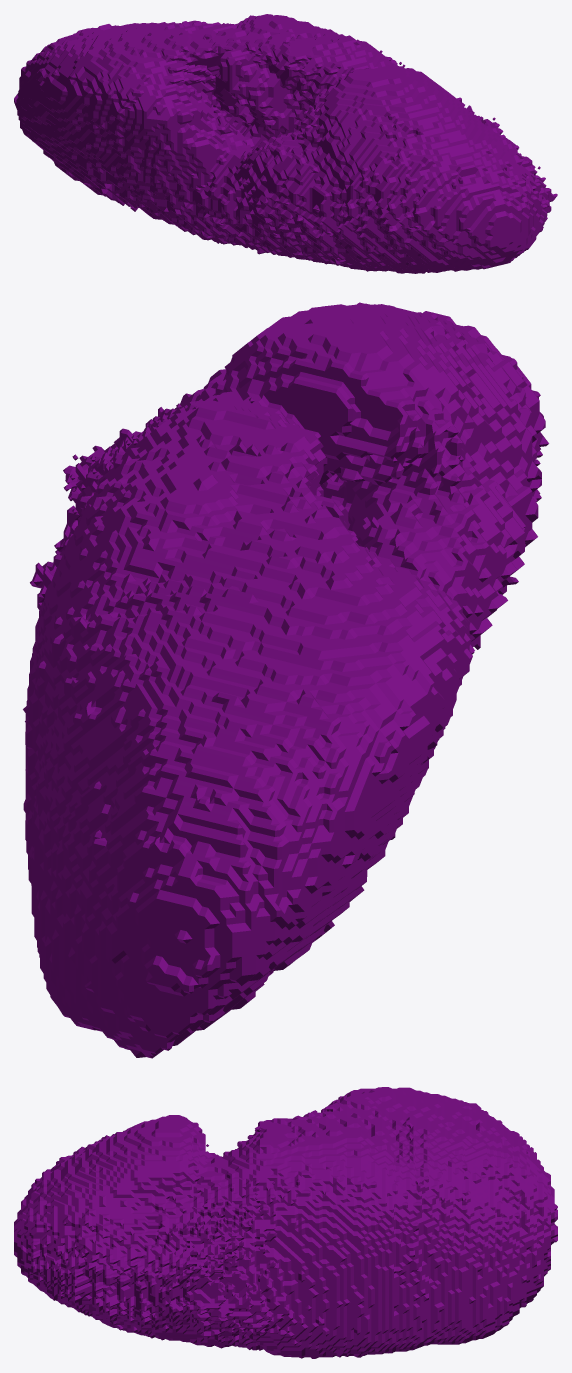
The model's file is kidney-left-vu500.glb.
3 views of the same model, one above another, from view 1: azimuth 30°, elevation 25°; view 2: azimuth 150°, elevation 25°; view 3: azimuth 270°, elevation 25° (orthographic). The views are drawn at different scales.
Parts seen in each view (by area): view 1: world; view 2: world; view 3: world.
Part boxes in pixels (box(x1,y1,x2,y2)): world: box(14, 14, 557, 273); world: box(23, 302, 548, 1058); world: box(14, 1087, 557, 1358).
Bounding box in the file's own units: 82.12 × 59.88 × 133.
